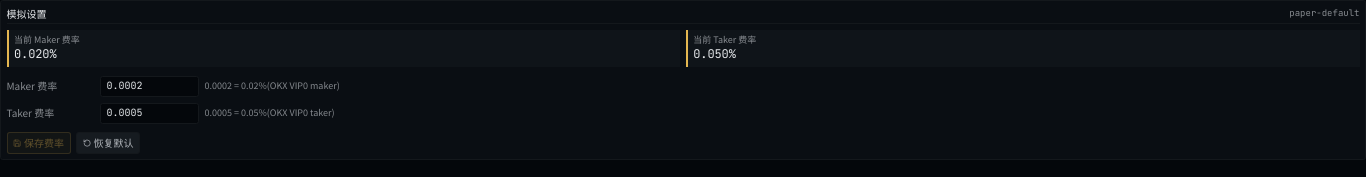
Test case: paper 子页组件 › PaperSettingsPage: 打开有数 — 渲染费率 + 保存按钮
expect the button "保存费率" is disabled: met, box left=6, top=132, right=70, bottom=154
Note: 改值 → 变可点
Type "0.0003" into the field labelled "Maker 费率" at (150, 86), box left=100, top=76, right=199, bottom=97
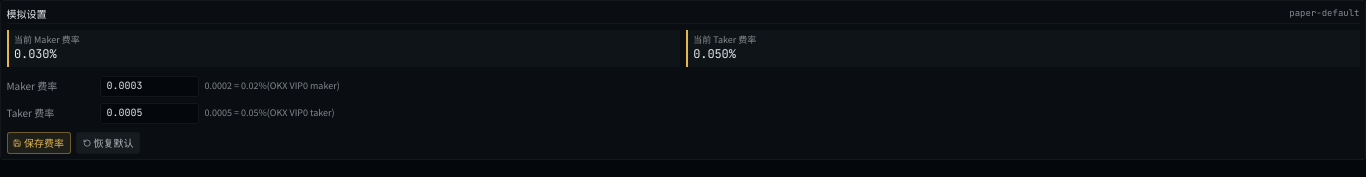
expect the button "保存费率" is enabled: met, box left=6, top=132, right=70, bottom=154
